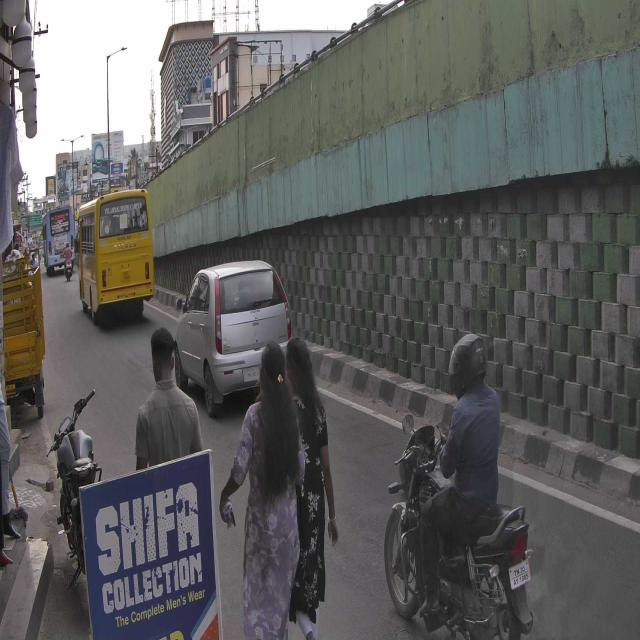single_rider: (384, 325, 535, 640)
